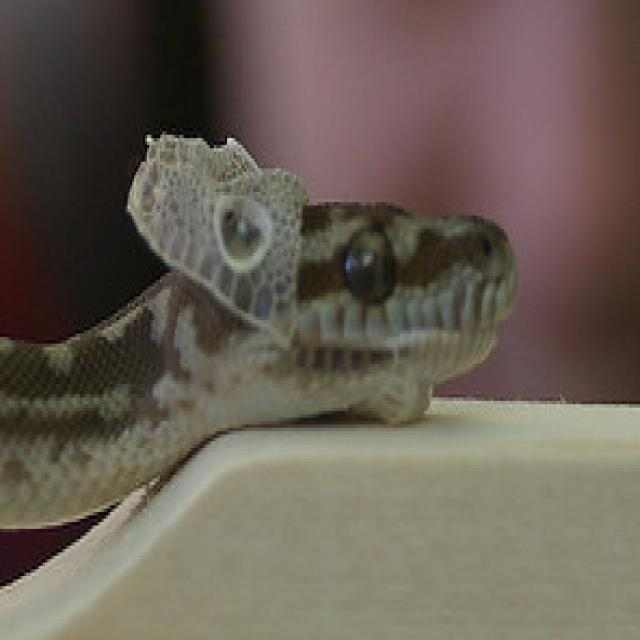Snake: (0, 124, 519, 536)
